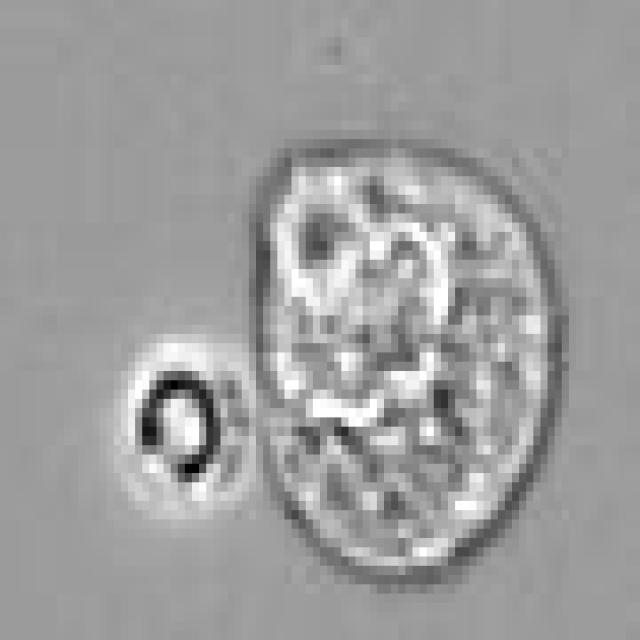Cancer Cell: (256, 148, 569, 584)
WBC: (135, 353, 249, 510)
